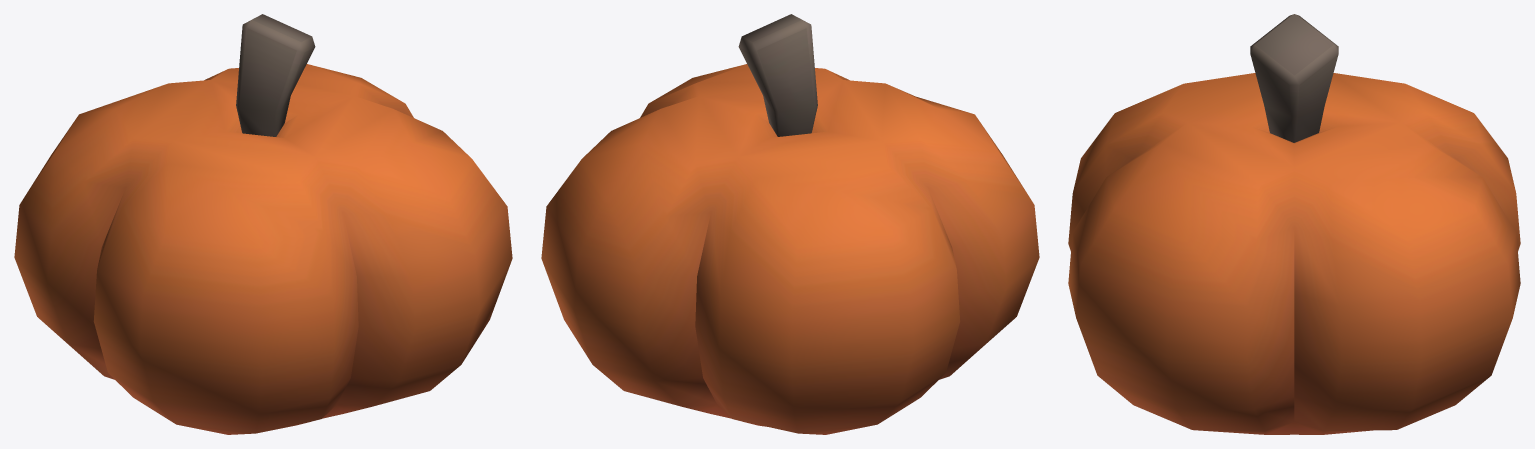
The model's file is pumpkin_orange_small.glb.
3 views of the same model, side by side, from view 1: azimuth 30°, elevation 25°; view 2: azimuth 150°, elevation 25°; view 3: azimuth 270°, elevation 25° (orthographic).
Visible parts, largest first — view 1: pumpkin_orange_small; view 2: pumpkin_orange_small; view 3: pumpkin_orange_small.
Part boxes in pixels (x1,y1,x2,y2): pumpkin_orange_small: [14, 14, 512, 434]; pumpkin_orange_small: [541, 14, 1039, 434]; pumpkin_orange_small: [1068, 14, 1520, 434].
Size of the model in its own units: 0.6 by 0.55 by 0.6.
Materials: 1 (1 with a texture image).
